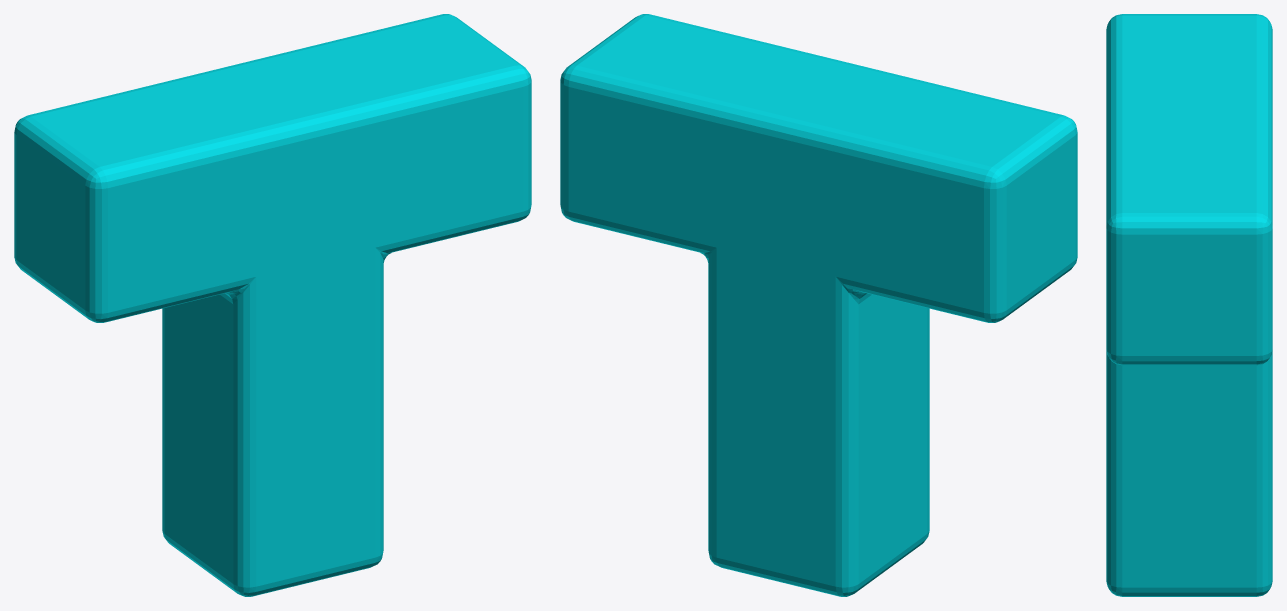
File: Crystaline.fbx
3 renders of one model, left to right at view 1: azimuth 30°, elevation 25°; view 2: azimuth 150°, elevation 25°; view 3: azimuth 270°, elevation 25°, orthographic. The views are drawn at different scales.
Visible parts, largest first — view 1: Crystaline; view 2: Crystaline; view 3: Crystaline.
Boxes of the visible parts, box(x1,y1,x2,y2) form: Crystaline: box(14, 14, 531, 596); Crystaline: box(560, 14, 1077, 596); Crystaline: box(1106, 14, 1272, 596).
Size of the model in its own units: 600 by 600 by 200.
